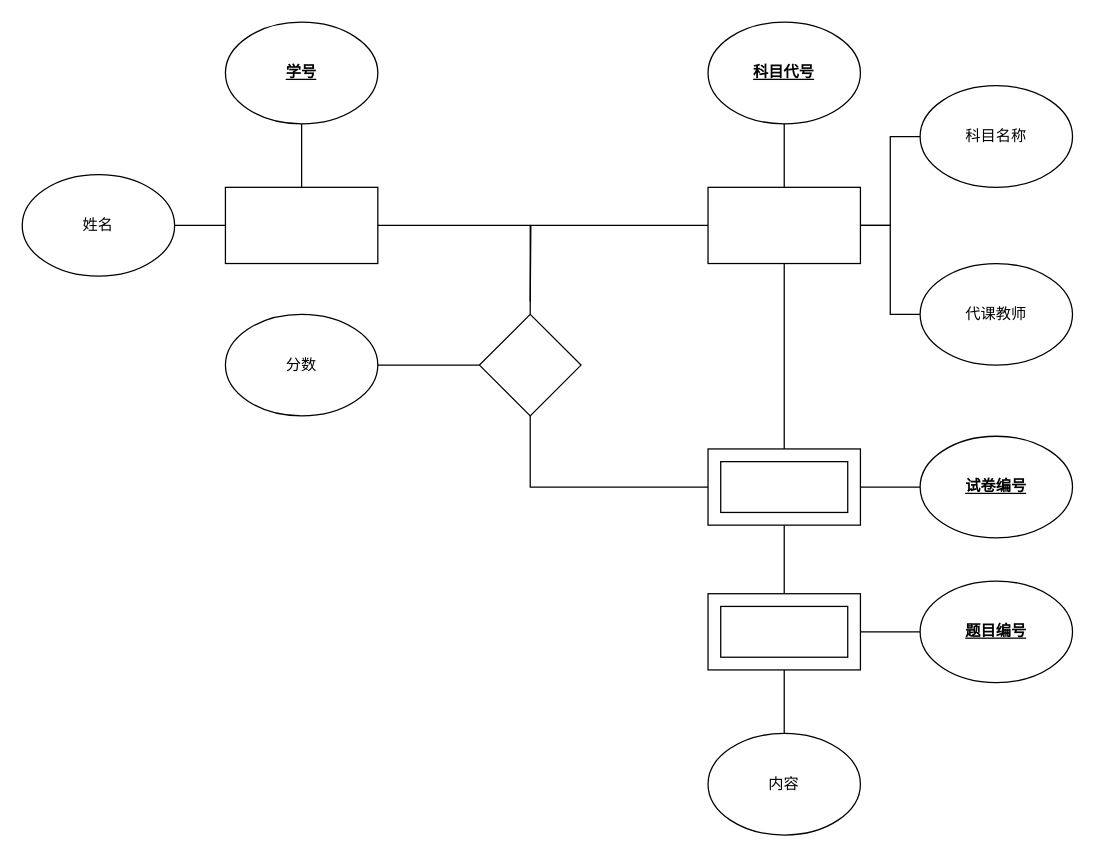
The diagram is 1095 pixels wide and 857 high, and some of its shapes have lost their labels. The shapes that lost their labels are listed below. From the top down, each one's centre as x and y in pixels, then its label:
At [301,225]: "学生".
At [783,225]: "科目".
At [529,364]: "成绩".
At [783,486]: "试卷".
At [783,631]: "题目".
